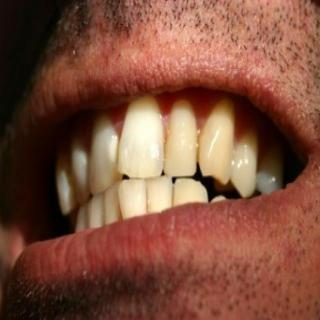LLCI_healthy: (118, 179, 146, 219)
LLC_healthy: (174, 179, 209, 204)
LLLI_healthy: (147, 178, 173, 212)
LRCI_healthy: (105, 185, 122, 224)
LRC_healthy: (76, 206, 88, 231)
LRLI_healthy: (87, 196, 104, 228)
UL1BC_healthy: (233, 130, 258, 198)
UL2BC_healthy: (258, 146, 283, 194)
ULCI_healthy: (119, 98, 164, 177)
ULC_healthy: (199, 100, 234, 185)
ULLI_healthy: (166, 101, 198, 176)
URCI_healthy: (90, 116, 121, 192)
URC_healthy: (56, 169, 77, 213)
URLI_healthy: (71, 143, 93, 201)
